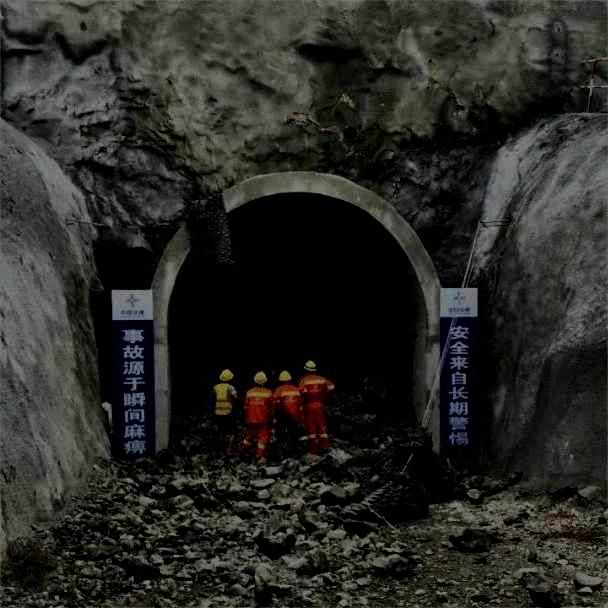helmet: (253, 371, 267, 385), (219, 369, 234, 382), (278, 370, 291, 382), (304, 360, 316, 373)
